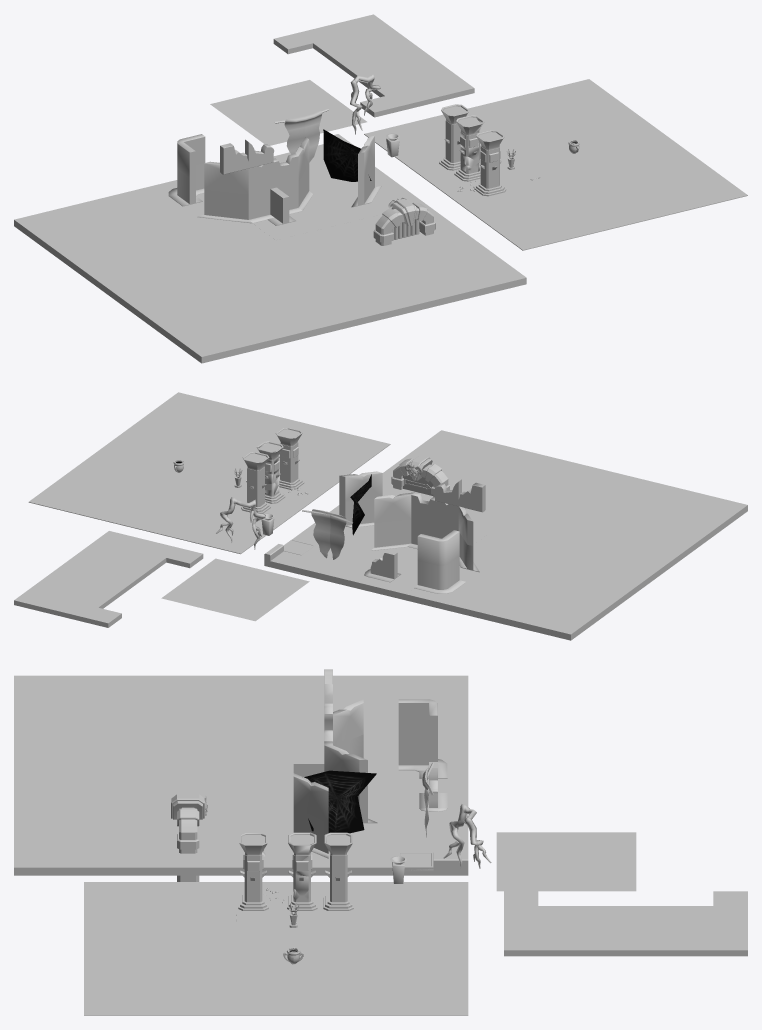
File: DungeonPieces.FBX
3 views of the same model, one above another, from view 1: azimuth 30°, elevation 25°; view 2: azimuth 150°, elevation 25°; view 3: azimuth 270°, elevation 25° (orthographic). The views are drawn at different scales.
Parts seen in each view (by area): view 1: floor7, boss_floor, boss_floor_2, floor6, lava, door, Pillar2, env_spiderweb_1, wall1_base_diagonal_1, banner, Pillar, wall1_top_diagonal_1 (+9 smaller); view 2: floor7, boss_floor, boss_floor_2, floor6, lava, banner, wall1_base_corner_1, Pillar2, wall1_top_corner_1, Pillar, door, wall1_base_diagonal_2 (+13 smaller); view 3: floor7, boss_floor, boss_floor_2, floor6, lava, env_spiderweb_1, Pillar2, Pillar, door, wall1_top_corner_1, wall1_base_corner_1, wall1_top_diagonal_3 (+5 smaller).
Boxes of the visible parts, x1,y1,x2,y2 form: floor7: (14, 180, 526, 363); boss_floor: (364, 79, 747, 250); boss_floor_2: (273, 14, 474, 117); floor6: (253, 144, 425, 240); lava: (210, 80, 366, 145); door: (373, 198, 435, 245); Pillar2: (474, 130, 506, 196); env_spiderweb_1: (323, 129, 371, 181); wall1_base_diagonal_1: (197, 189, 252, 223); banner: (275, 109, 328, 162); Pillar: (439, 104, 469, 170); wall1_top_diagonal_1: (204, 161, 248, 194); floor7: (308, 430, 747, 640); boss_floor: (28, 392, 390, 554); boss_floor_2: (14, 531, 203, 627); floor6: (270, 505, 487, 600); lava: (161, 558, 309, 621); banner: (302, 509, 352, 559); wall1_base_corner_1: (414, 556, 465, 593); Pillar2: (275, 427, 304, 489); wall1_top_corner_1: (417, 530, 459, 565); Pillar: (241, 451, 270, 513); door: (391, 454, 449, 497); wall1_base_diagonal_2: (370, 519, 411, 550); floor7: (14, 675, 468, 875); boss_floor: (84, 882, 468, 1015); boss_floor_2: (504, 891, 747, 956); floor6: (258, 779, 468, 875); lava: (496, 832, 636, 891); env_spiderweb_1: (304, 770, 376, 833); Pillar2: (238, 832, 268, 910); Pillar: (323, 832, 353, 910); door: (171, 794, 204, 881); wall1_top_corner_1: (398, 699, 437, 747); wall1_base_corner_1: (398, 734, 447, 778); wall1_top_diagonal_3: (293, 773, 328, 822).
Bounding box in the file's own units: 92 × 15.67 × 83.99.
